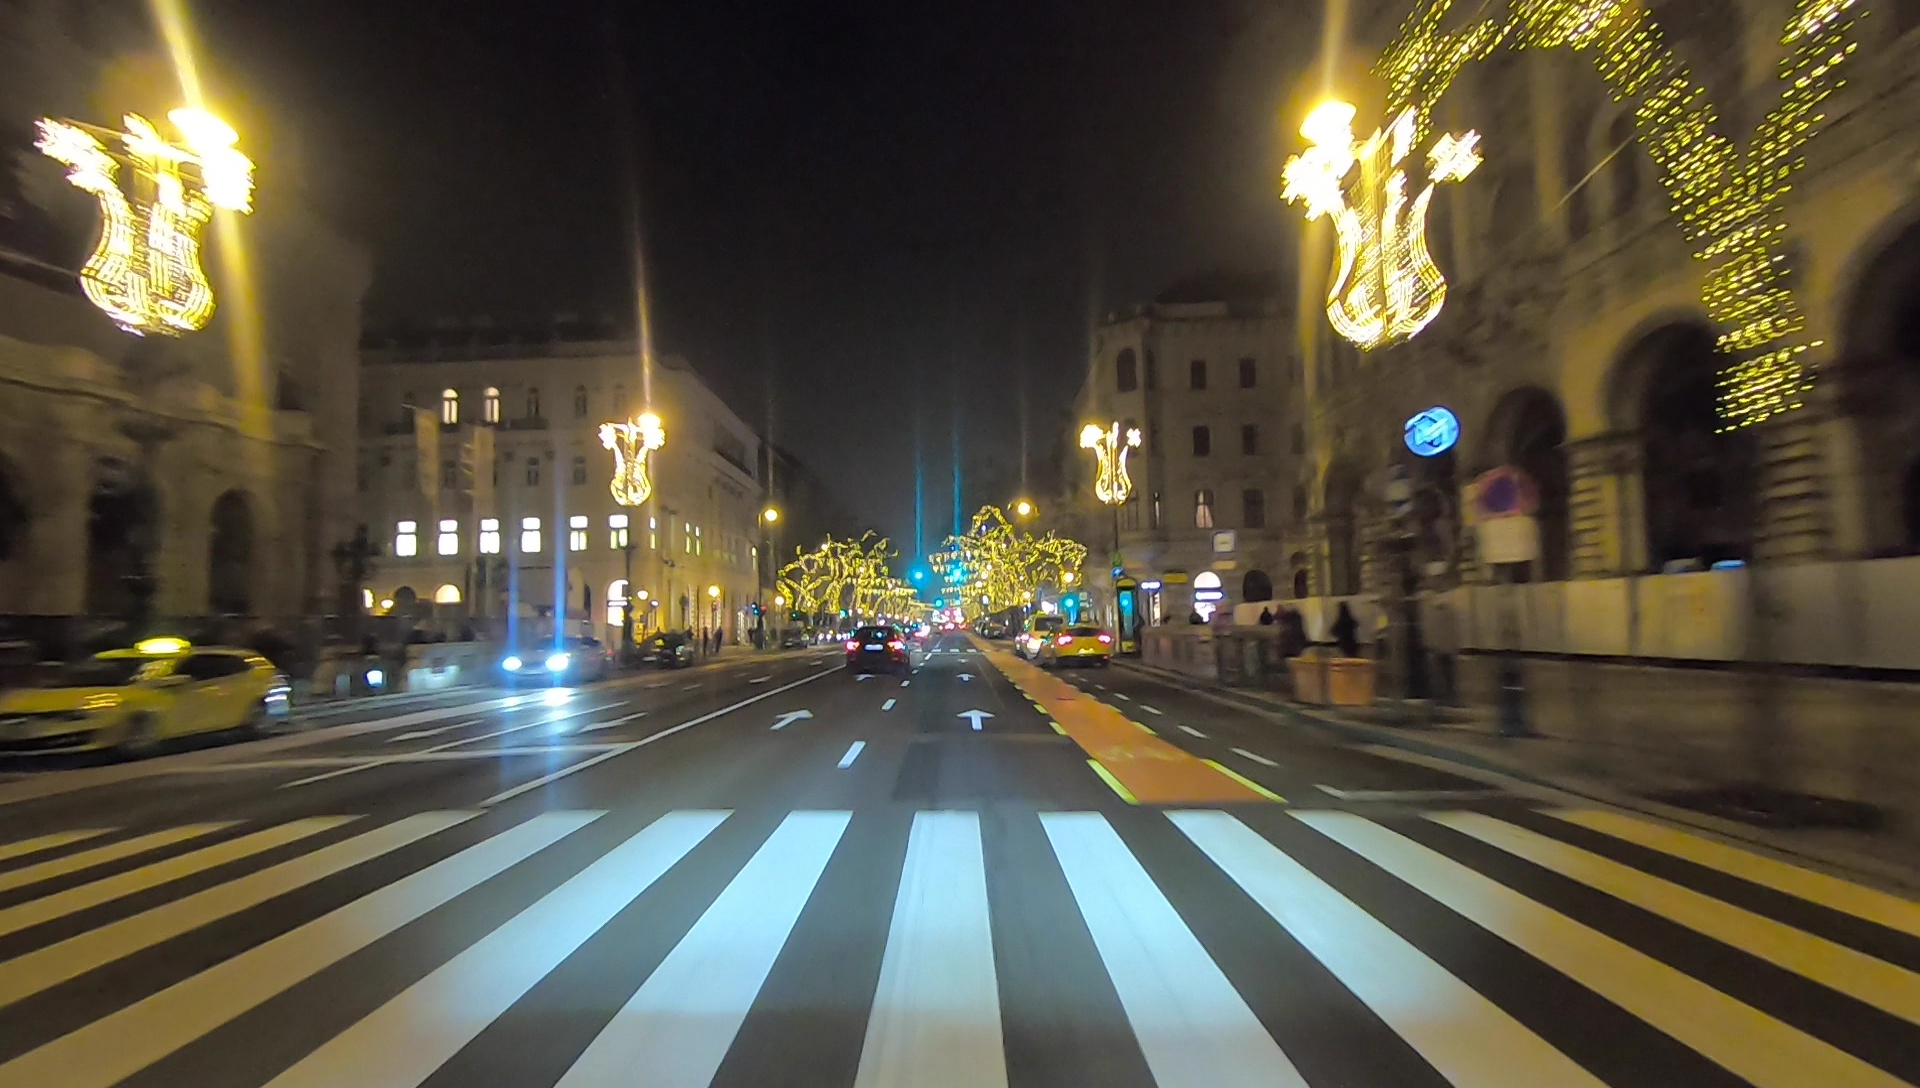person: (1325, 600, 1358, 687), (1269, 610, 1304, 691)
